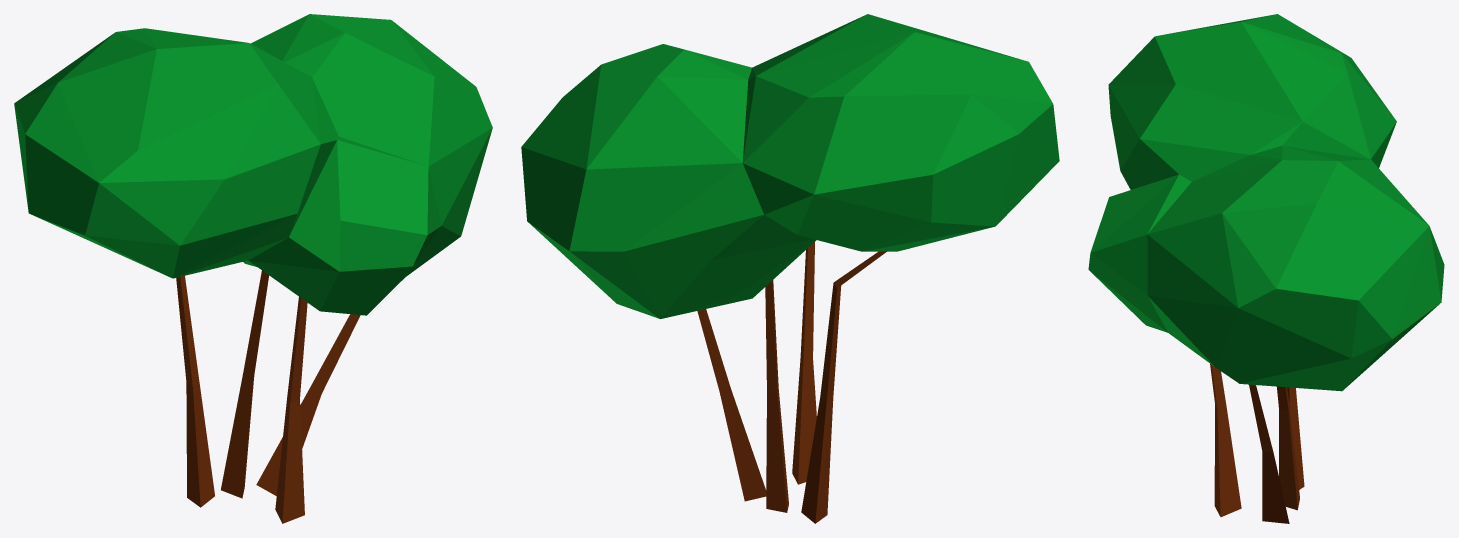
Rendered from TreeBush03.fbx.
The picture shows the model from 3 angles, left to right: view 1: azimuth 30°, elevation 25°; view 2: azimuth 150°, elevation 25°; view 3: azimuth 270°, elevation 25°; orthographic projection. The views are drawn at different scales.
Visible parts, largest first — view 1: Bush03; view 2: Bush03; view 3: Bush03.
Boxes of the visible parts, <box> form: Bush03: <box>14,14,492,523</box>; Bush03: <box>521,14,1059,523</box>; Bush03: <box>1088,14,1444,523</box>.
Size of the model in its own units: 105 by 108 by 79.65.
